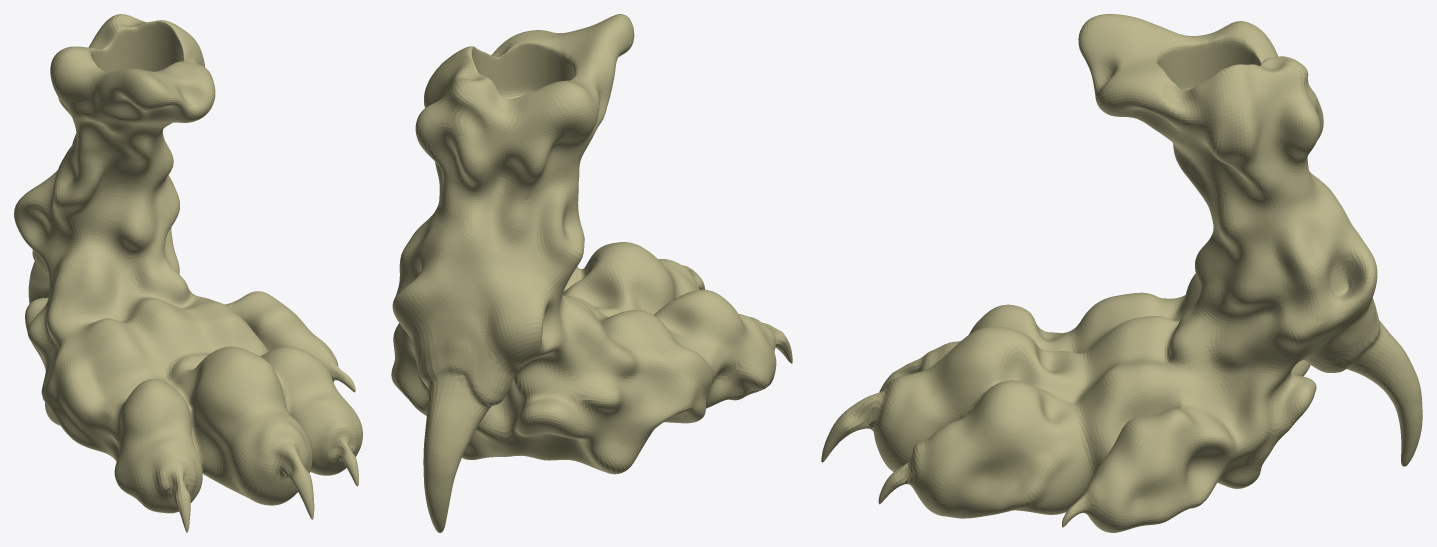
The model's file is goldclaw.fbx.
3 renders of one model, left to right at view 1: azimuth 30°, elevation 25°; view 2: azimuth 150°, elevation 25°; view 3: azimuth 270°, elevation 25°, orthographic. The views are drawn at different scales.
Visible parts, largest first — view 1: clawlow:ZBrush_defualt_group; view 2: clawlow:ZBrush_defualt_group; view 3: clawlow:ZBrush_defualt_group.
Part boxes in pixels (box(x1,y1,x2,y2)): clawlow:ZBrush_defualt_group: box(14, 14, 362, 532); clawlow:ZBrush_defualt_group: box(391, 14, 792, 532); clawlow:ZBrush_defualt_group: box(821, 14, 1422, 532).
Size of the model in its own units: 167 by 221 by 273.
